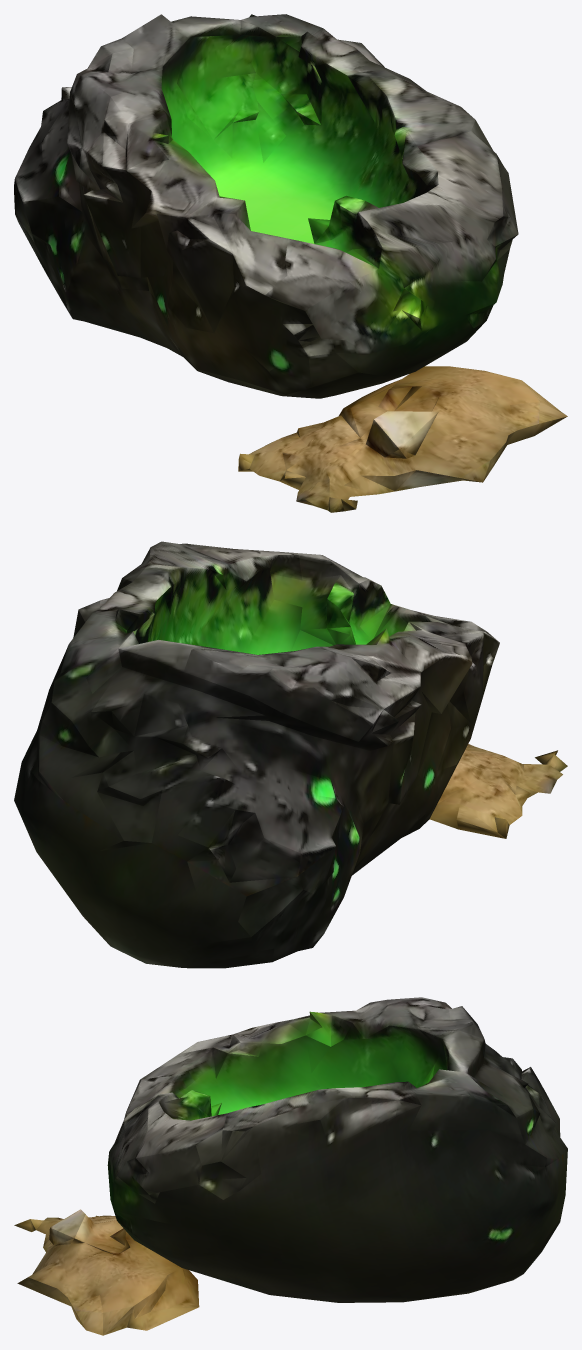
Rendered from meteorite.glb.
The picture shows the model from 3 angles, top to bottom: view 1: azimuth 30°, elevation 25°; view 2: azimuth 150°, elevation 25°; view 3: azimuth 270°, elevation 25°; orthographic projection. The views are drawn at different scales.
Parts seen in each view (by area): view 1: model; view 2: model; view 3: model.
Part boxes in pixels (x1,y1,x2,y2): model: (14,14,567,512); model: (14,541,567,968); model: (14,997,567,1335).
Bounding box in the file's own units: 1.12 × 0.937 × 1.91.
1 material, 1 textured.
